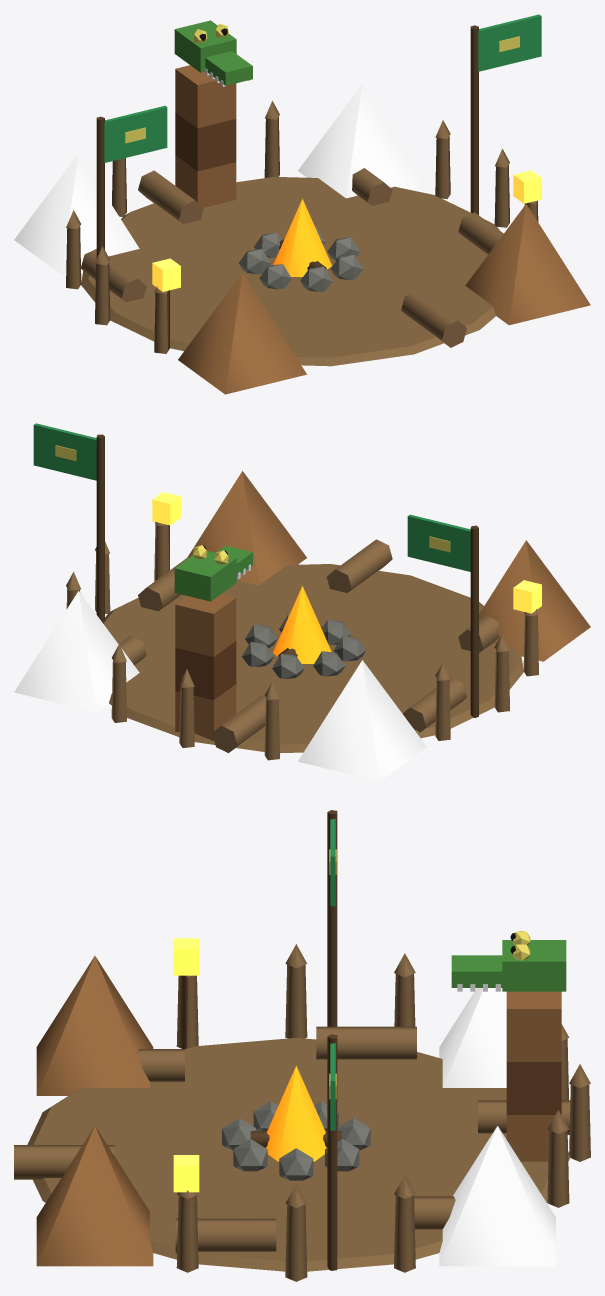
Rendered from level4.glb.
3 renders of one model, top to bottom at view 1: azimuth 30°, elevation 25°; view 2: azimuth 150°, elevation 25°; view 3: azimuth 270°, elevation 25°, orthographic. The views are drawn at different scales.
Parts seen in each view (by area): view 1: object 1, object 70, object 71, object 20, object 19, object 27, object 26, object 43, object 46, flame, object 25, object 14 (+22 smaller); view 2: object 1, object 19, object 20, object 71, object 70, object 27, object 43, object 46, object 26, object 28, flame, object 14 (+24 smaller); view 3: object 1, object 71, object 20, object 70, object 19, object 27, flame, object 16, object 28, object 26, object 13, object 45 (+22 smaller).
Boxes of the visible parts, <box> form: object 1: <box>81,176,499,366</box>; object 70: <box>178,273,306,394</box>; object 71: <box>465,204,590,325</box>; object 20: <box>298,84,426,198</box>; object 19: <box>14,153,139,274</box>; object 27: <box>175,65,236,128</box>; object 26: <box>175,112,236,171</box>; object 43: <box>104,105,167,162</box>; object 46: <box>478,14,541,71</box>; flame: <box>273,198,331,276</box>; object 25: <box>175,155,236,207</box>; object 14: <box>401,290,466,347</box>; object 1: <box>103,564,523,753</box>; object 19: <box>298,660,426,781</box>; object 20: <box>14,591,139,712</box>; object 71: <box>187,471,306,585</box>; object 70: <box>479,540,590,661</box>; object 27: <box>175,594,236,656</box>; object 43: <box>407,514,470,571</box>; object 46: <box>33,423,96,480</box>; object 26: <box>175,641,236,700</box>; object 28: <box>174,551,236,601</box>; flame: <box>273,586,331,663</box>; object 14: <box>326,539,392,592</box>; object 1: <box>27,1038,570,1271</box>; object 71: <box>36,1126,153,1266</box>; object 20: <box>439,1126,555,1266</box>; object 70: <box>36,956,153,1095</box>; object 19: <box>439,988,506,1087</box>; object 27: <box>506,991,561,1061</box>; flame: <box>265,1065,326,1161</box>; object 16: <box>316,1026,416,1059</box>; object 28: <box>502,940,566,991</box>; object 26: <box>506,1062,561,1114</box>; object 13: <box>175,1218,276,1253</box>; object 45: <box>327,1034,337,1270</box>.
Bounding box in the file's own units: 3.89 × 1.54 × 3.44.
